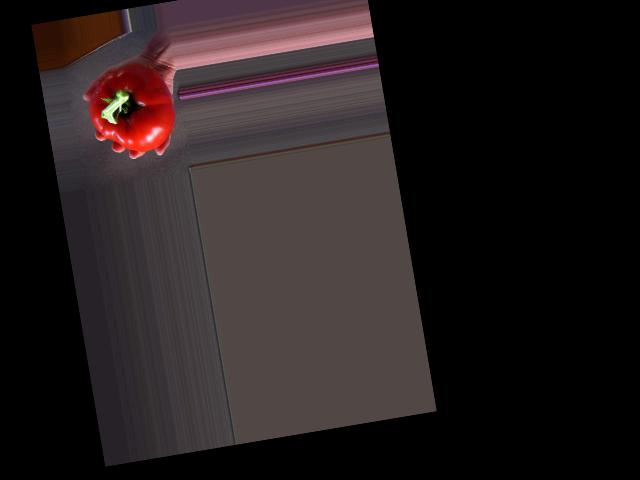tomato: (82, 59, 180, 159)
